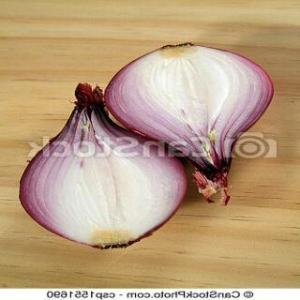onion: (17, 88, 191, 252), (109, 40, 274, 192)
